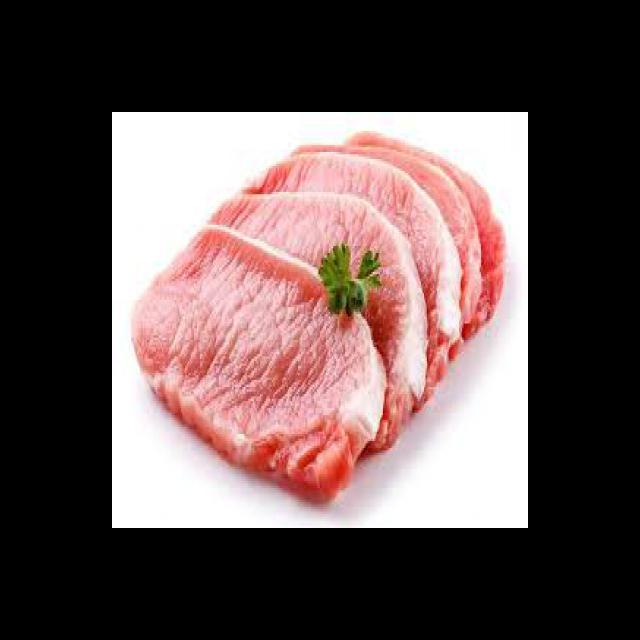pork: (131, 161, 506, 481), (144, 238, 376, 504)
